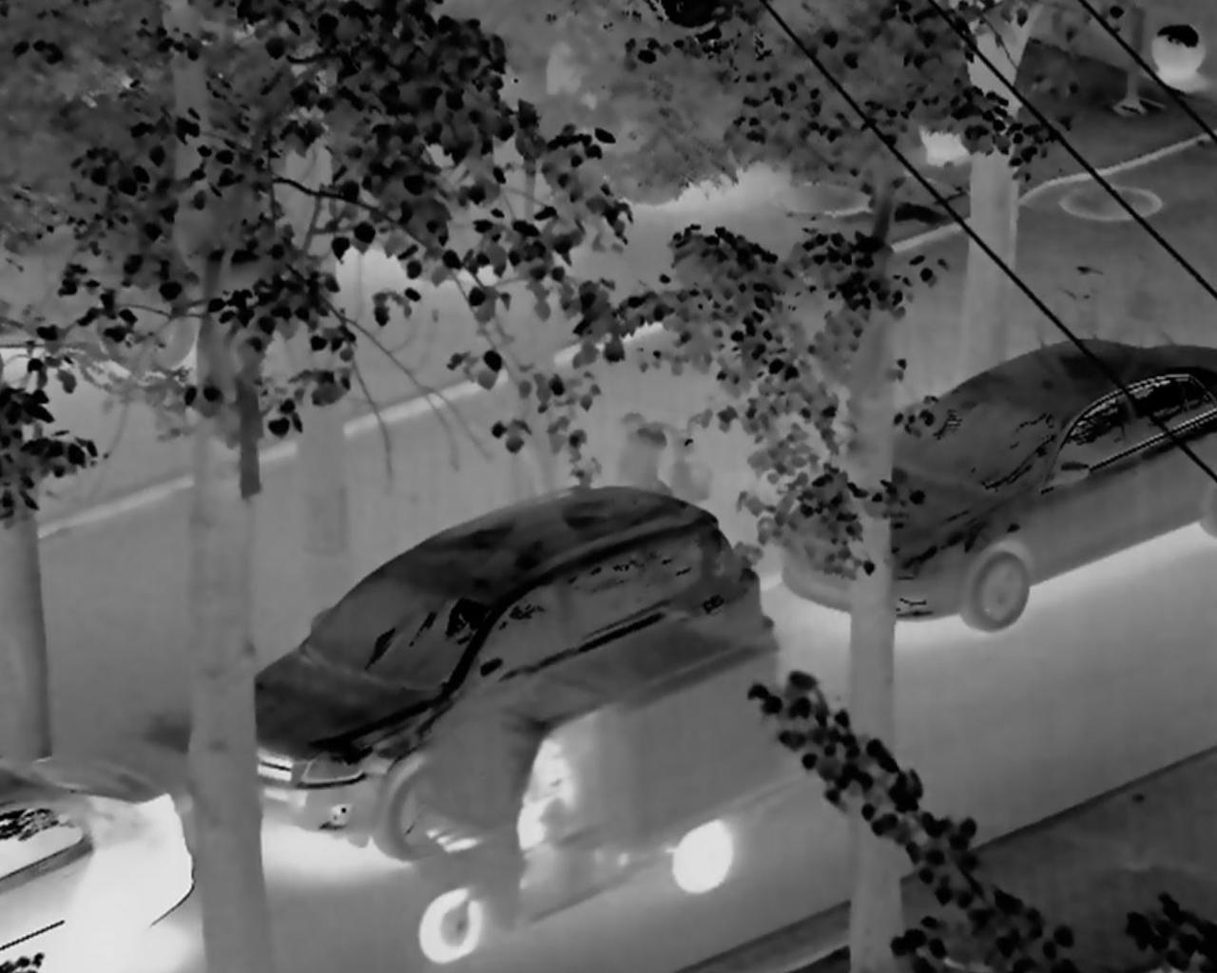person: (517, 735, 583, 894)
